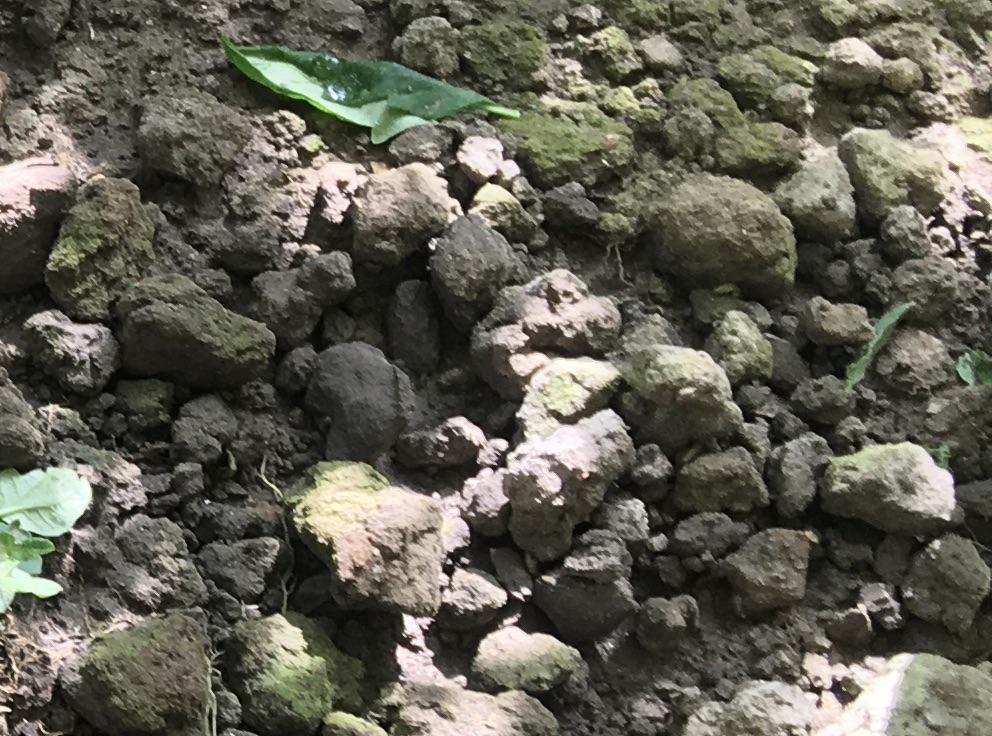block: (283, 457, 445, 618), (634, 169, 801, 295), (469, 266, 628, 396), (498, 414, 639, 560), (110, 275, 279, 390), (62, 616, 223, 734), (229, 609, 369, 729), (821, 435, 967, 543)
